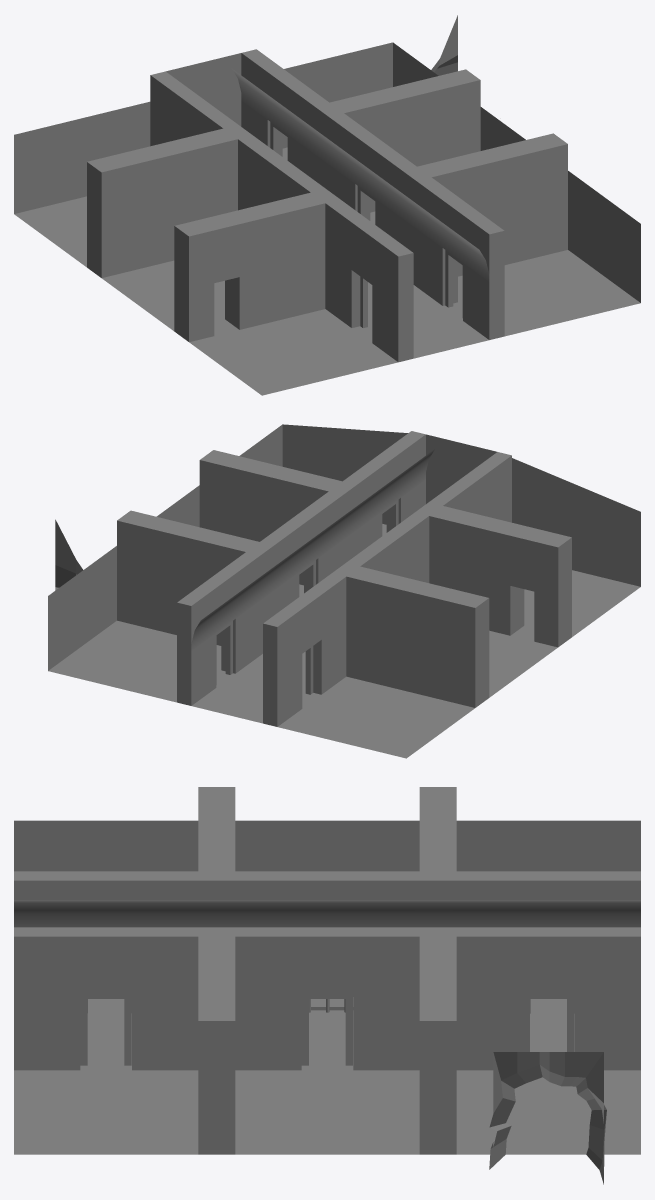
File: prison.gltf
3 renders of one model, top to bottom at view 1: azimuth 30°, elevation 25°; view 2: azimuth 150°, elevation 25°; view 3: azimuth 270°, elevation 25°, orthographic. The views are drawn at different scales.
Visible parts, largest first — view 1: Walls, ___DoorwayCover0, Bars5.001; view 2: Walls, ___DoorwayCover2, ___DoorwayCover1, Bars5.003; view 3: Walls, Bars5.001, Bars5.002, Bars5.003.
Boxes of the visible parts, <box> form: Walls: <box>14,15,640,395</box>; ___DoorwayCover0: <box>193,80,241,126</box>; Bars5.001: <box>445,250,462,317</box>; Walls: <box>48,424,640,758</box>; ___DoorwayCover2: <box>61,556,103,659</box>; ___DoorwayCover1: <box>426,460,471,503</box>; Bars5.003: <box>216,621,232,684</box>; Walls: <box>14,787,640,1184</box>; Bars5.001: <box>80,997,131,1065</box>; Bars5.002: <box>301,997,352,1065</box>; Bars5.003: <box>523,997,574,1051</box>.
Bounding box in the file's own units: 17 × 4 × 17.
1 material, 1 textured.
